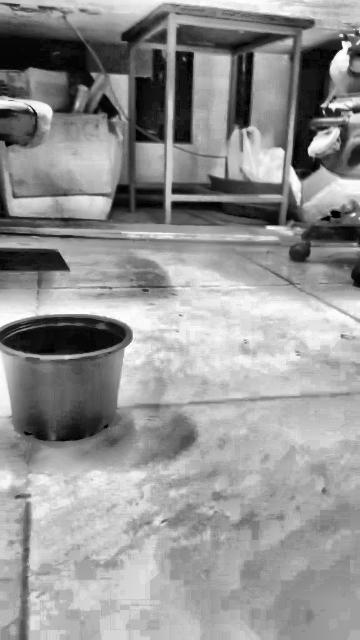pot: (0, 314, 131, 442)
